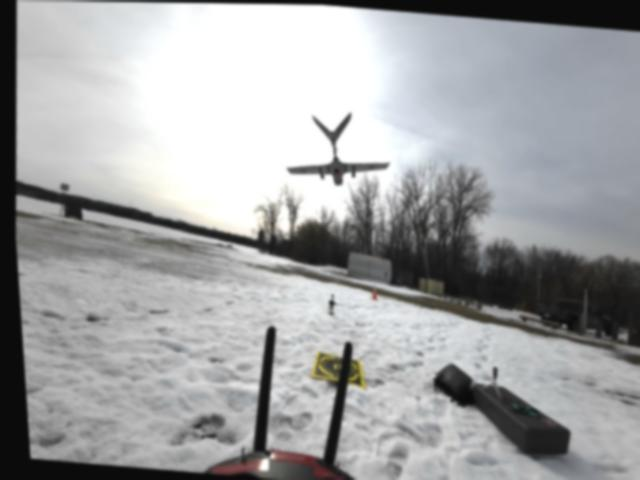plane: (276, 104, 394, 189)
